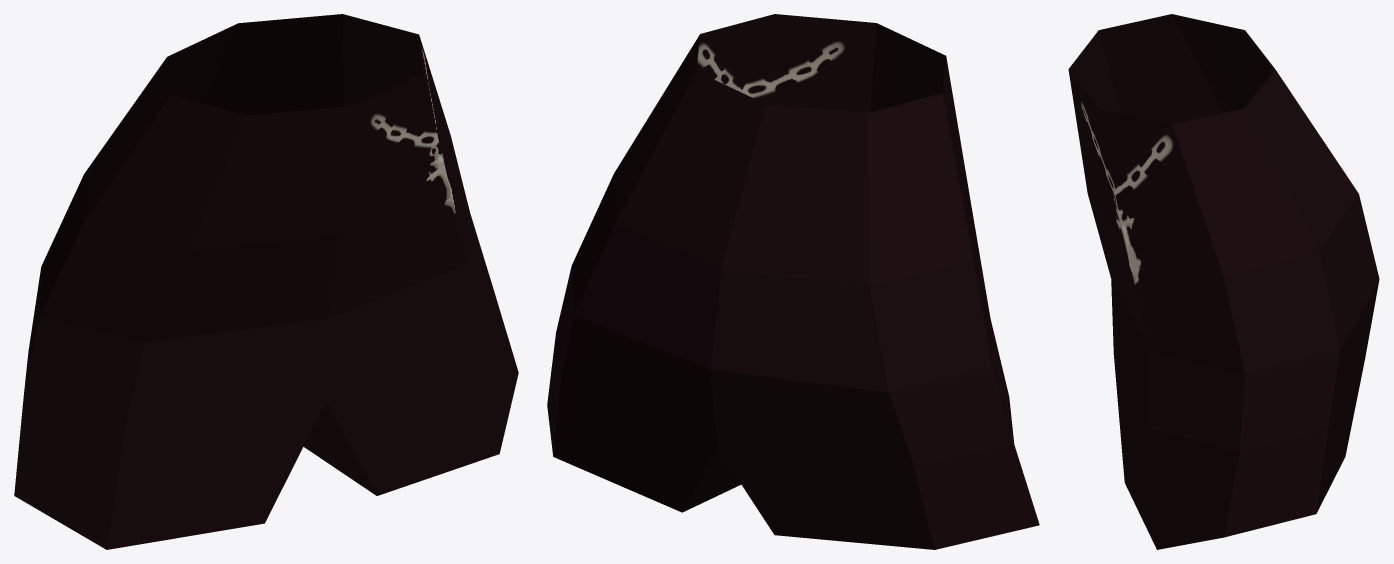
File: shortshorts.fbx
3 renders of one model, left to right at view 1: azimuth 30°, elevation 25°; view 2: azimuth 150°, elevation 25°; view 3: azimuth 270°, elevation 25°, orthographic. The views are drawn at different scales.
Visible parts, largest first — view 1: ShortShorts; view 2: ShortShorts; view 3: ShortShorts.
Boxes of the visible parts, x1=… form: ShortShorts: x1=14, y1=14, x2=518, y2=549; ShortShorts: x1=547, y1=14, x2=1039, y2=549; ShortShorts: x1=1068, y1=14, x2=1379, y2=549.
Bounding box in the file's own units: 98.47 × 80.44 × 57.65.
